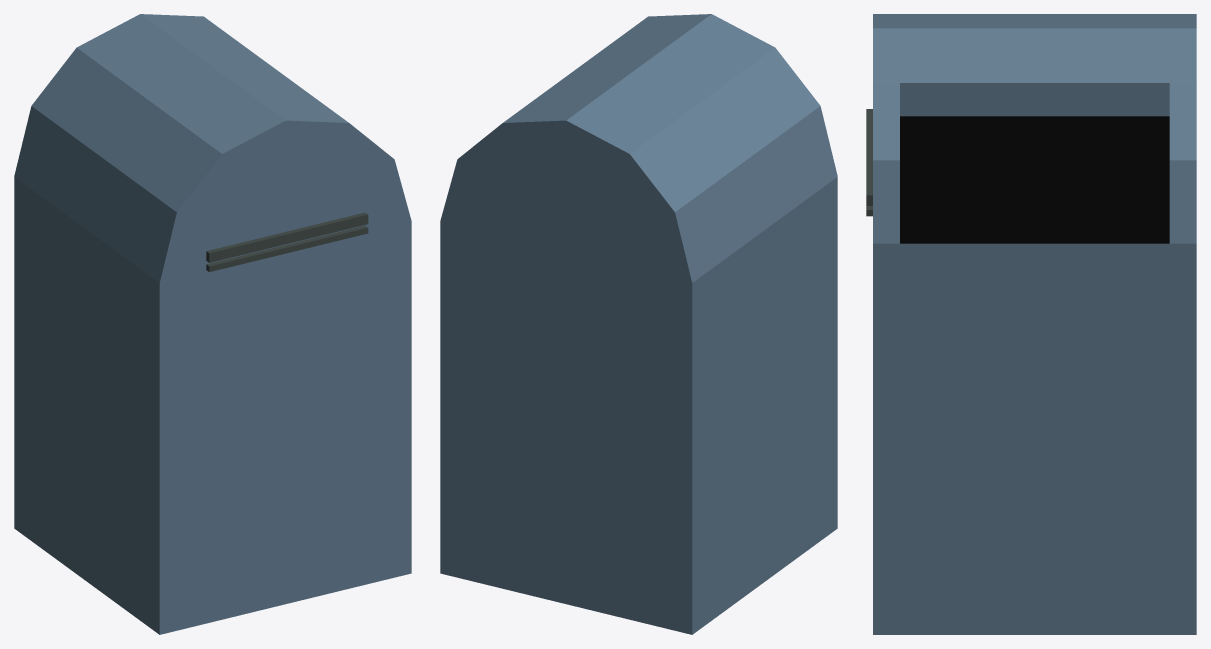
File: MAIL29.glb
3 renders of one model, left to right at view 1: azimuth 30°, elevation 25°; view 2: azimuth 150°, elevation 25°; view 3: azimuth 270°, elevation 25°, orthographic. The views are drawn at different scales.
Visible parts, largest first — view 1: MAIL29 | archived geometry, Fitted street and landscape details; view 2: MAIL29 | archived geometry; view 3: MAIL29 | archived geometry, Fitted street and landscape details.
Boxes of the visible parts, x1,y1,x2,y2 form: MAIL29 | archived geometry: (14,14,411,634); Fitted street and landscape details: (206,212,368,271); MAIL29 | archived geometry: (440,14,837,634); MAIL29 | archived geometry: (873,14,1196,634); Fitted street and landscape details: (866,109,872,216).
Size of the model in its own units: 0.825 by 1.51 by 0.842.
